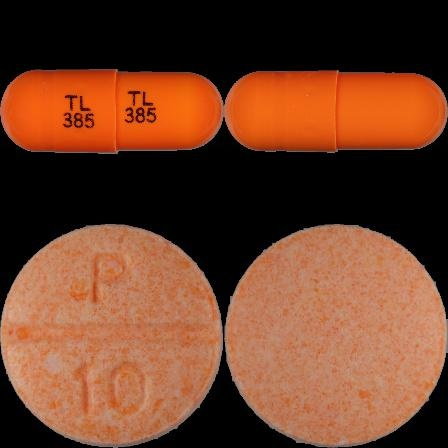63629-1414: (0, 0, 224, 224)
